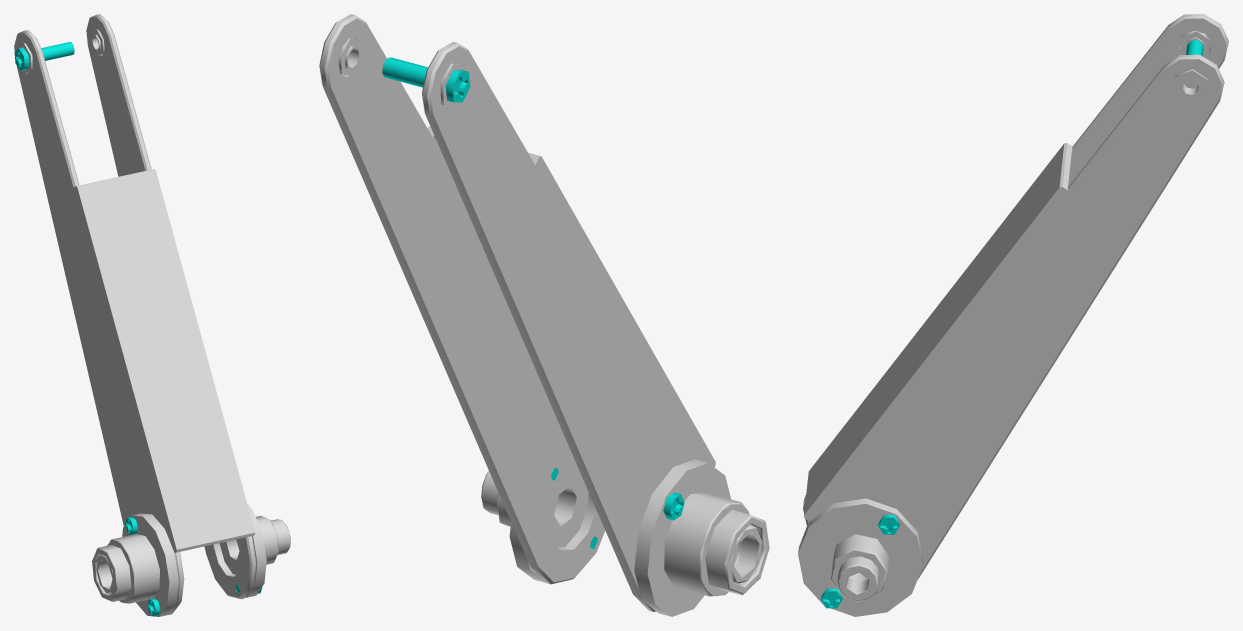
Rendered from postarm.dae.
3 views of the same model, side by side, from view 1: azimuth 30°, elevation 25°; view 2: azimuth 150°, elevation 25°; view 3: azimuth 270°, elevation 25° (orthographic). The views are drawn at different scales.
Visible parts, largest first — view 1: _; view 2: _; view 3: _.
Boxes of the visible parts, <box> form: _: <box>14,14,290,616</box>; _: <box>319,14,769,616</box>; _: <box>798,14,1228,616</box>.
Bounding box in the file's own units: 57.68 × 103 × 148.
